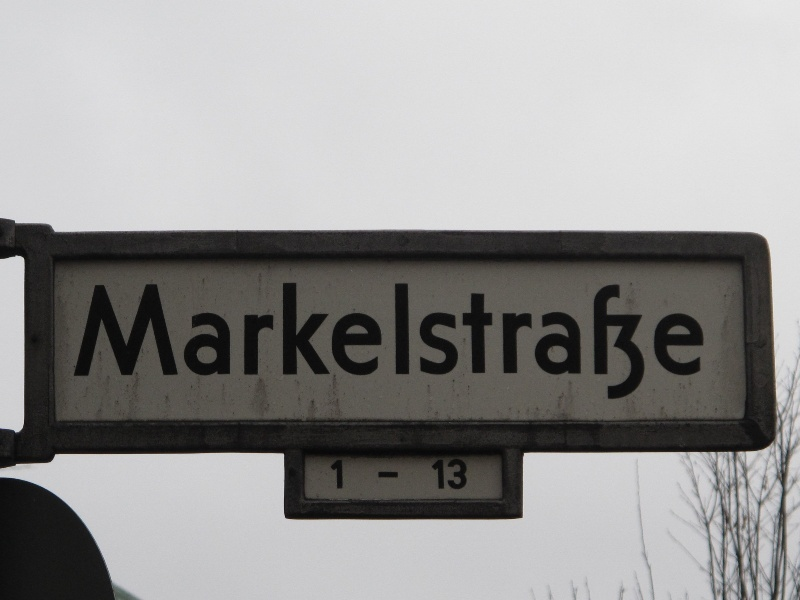text: (97, 283, 112, 411), (113, 283, 128, 411), (129, 283, 144, 411), (145, 283, 160, 411), (161, 283, 176, 411), (177, 283, 192, 411), (193, 283, 208, 411), (209, 283, 224, 411), (225, 283, 240, 411), (241, 283, 256, 411), (257, 283, 272, 411), (273, 283, 288, 411), (289, 283, 304, 411), (305, 283, 320, 411), (321, 283, 336, 411), (337, 283, 352, 411), (353, 283, 368, 411), (369, 283, 384, 411), (385, 283, 400, 411), (401, 283, 416, 411), (417, 283, 432, 411), (433, 283, 448, 411), (449, 283, 464, 411), (465, 283, 480, 411), (481, 283, 496, 411), (497, 283, 512, 411), (513, 283, 528, 411), (529, 283, 544, 411), (545, 283, 560, 411), (561, 283, 576, 411), (577, 283, 592, 411), (593, 283, 608, 411), (609, 283, 624, 411), (625, 283, 640, 411), (641, 283, 656, 411), (657, 283, 672, 411), (673, 283, 688, 411), (689, 283, 704, 411), (705, 283, 713, 411), (433, 458, 448, 490), (449, 458, 464, 490), (330, 460, 336, 489), (337, 460, 343, 489), (95, 283, 96, 411), (385, 472, 399, 478), (465, 458, 467, 490), (379, 472, 384, 478)
